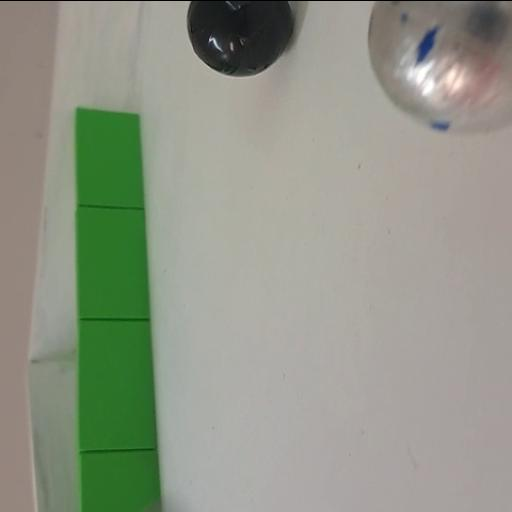alive: (371, 2, 510, 136)
dead: (188, 1, 294, 77)
